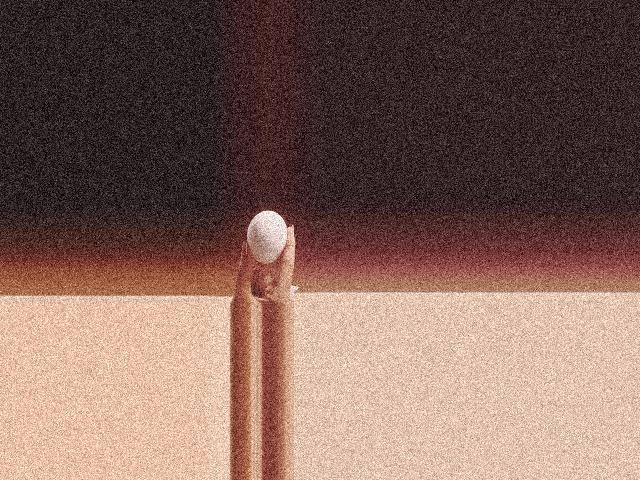egg: (246, 211, 286, 265)
